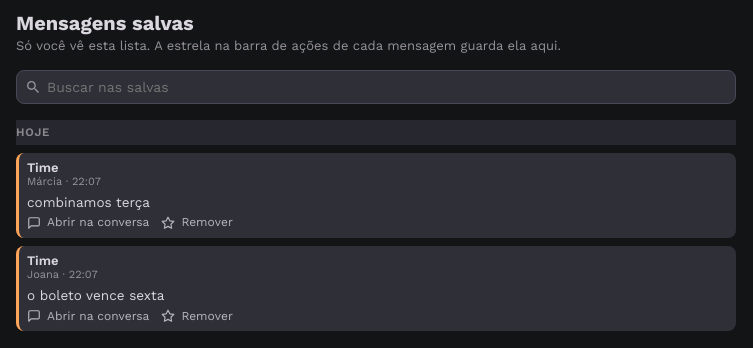
Test: Saved · busca, filtro e agrupamento › a busca alcança quem escreveu
The image size is (753, 348).
Type "joana" into the field named "Buscar nas mensagens salvas" at x=387, y=87, box [47,71,727,103]
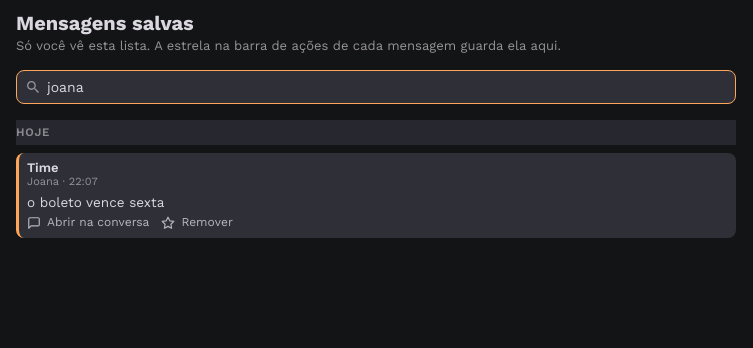
Expected: the text "o boleto vence sexta" is shown, [27,194,164,210]
Result: the text "combinamos terça" is gone
